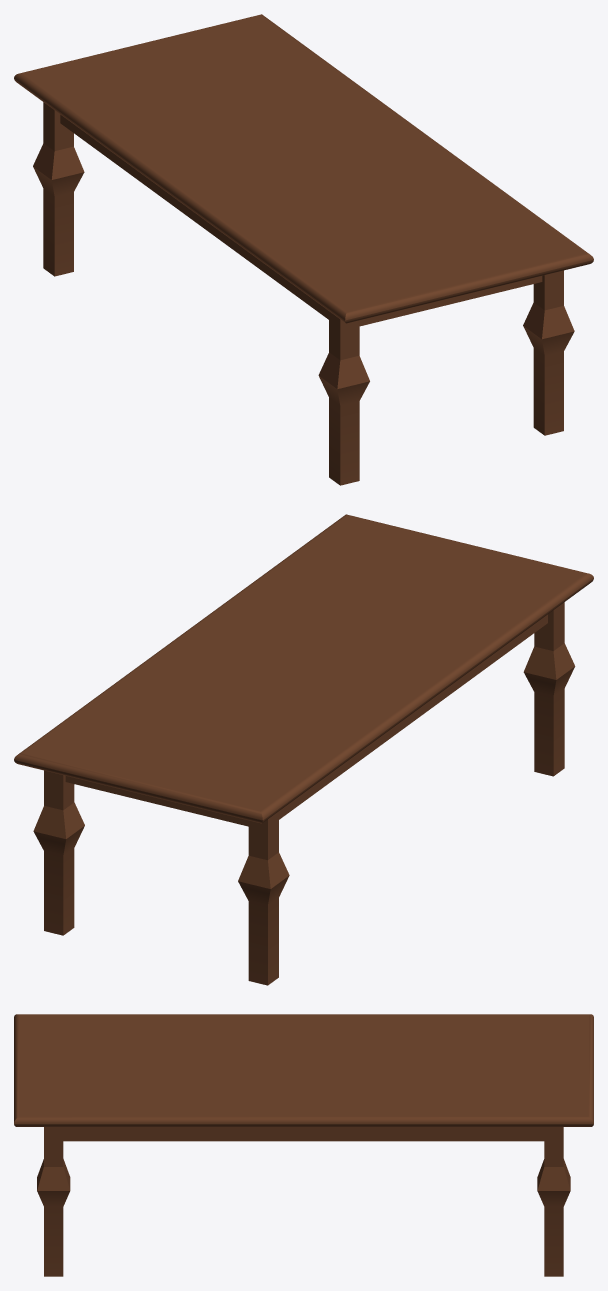
File: GrandeTable_53.fbx
3 views of the same model, one above another, from view 1: azimuth 30°, elevation 25°; view 2: azimuth 150°, elevation 25°; view 3: azimuth 270°, elevation 25° (orthographic). The views are drawn at different scales.
Parts seen in each view (by area): view 1: pCube95, polySurface21, polySurface20, polySurface22; view 2: pCube95, polySurface22, polySurface23, polySurface21; view 3: pCube95, polySurface23, polySurface20.
Part boxes in pixels (left/top/right/bottom): pCube95: left=14, top=14, right=593, bottom=326; polySurface21: left=318, top=311, right=369, bottom=485; polySurface20: left=523, top=270, right=574, bottom=435; polySurface22: left=33, top=102, right=84, bottom=276; pCube95: left=14, top=514, right=593, bottom=826; polySurface22: left=238, top=811, right=289, bottom=985; polySurface23: left=33, top=770, right=84, bottom=935; polySurface21: left=523, top=602, right=575, bottom=776; pCube95: left=14, top=1014, right=593, bottom=1141; polySurface23: left=537, top=1127, right=570, bottom=1276; polySurface20: left=37, top=1127, right=70, bottom=1276.
Bounding box in the file's own units: 56.59 × 40.5 × 130.
